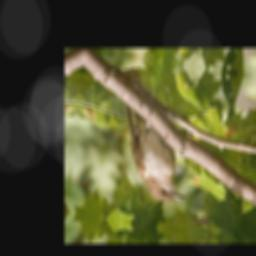Cuckoo: (107, 64, 203, 208)
